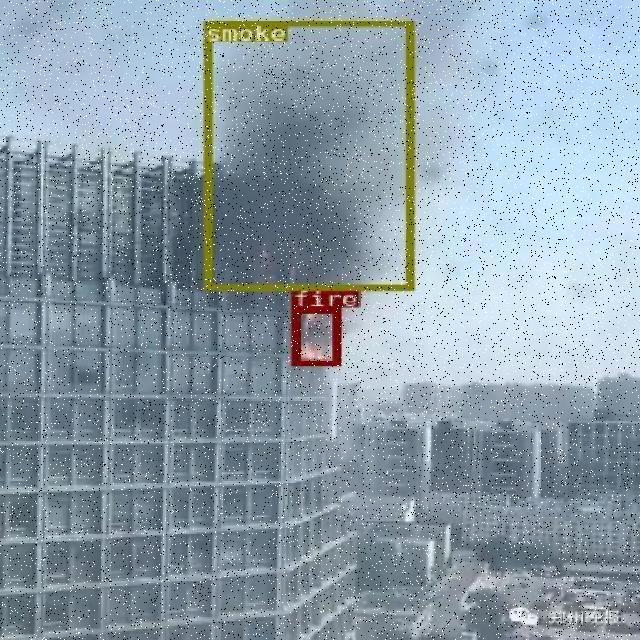Smoke: (206, 0, 409, 223)
